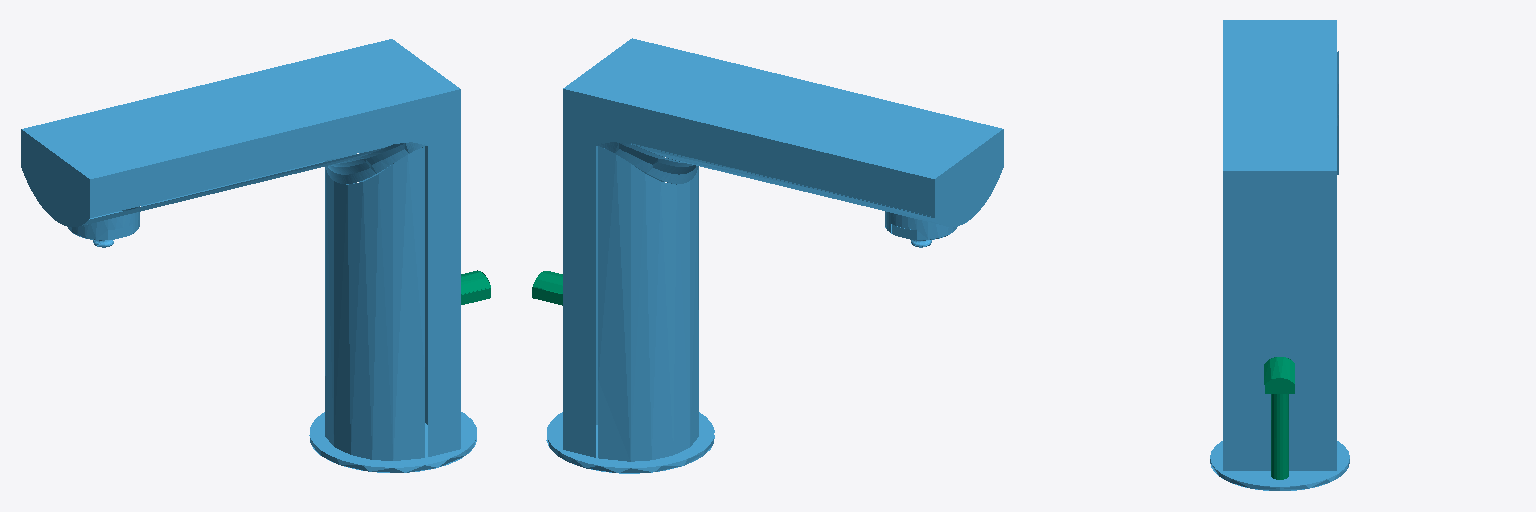
robot.urdf — partnet_13cdb5df9a944fcbb7a867e9b35a1295:
<?xml version="1.0" ?>
<robot name="partnet_13cdb5df9a944fcbb7a867e9b35a1295">
	<link name="base"/>
	<link name="link_0">
		<visual name="surface_base-6">
			<origin xyz="0 0 0"/>
			<geometry>
				<mesh filename="textured_objs/original-5.obj"/>
			</geometry>
		</visual>
		<visual name="surface_base-6">
			<origin xyz="0 0 0"/>
			<geometry>
				<mesh filename="textured_objs/original-33.obj"/>
			</geometry>
		</visual>
		<visual name="surface_base-6">
			<origin xyz="0 0 0"/>
			<geometry>
				<mesh filename="textured_objs/original-1.obj"/>
			</geometry>
		</visual>
		<visual name="surface_base-6">
			<origin xyz="0 0 0"/>
			<geometry>
				<mesh filename="textured_objs/original-34.obj"/>
			</geometry>
		</visual>
		<visual name="vertical_support-8">
			<origin xyz="0 0 0"/>
			<geometry>
				<mesh filename="textured_objs/new-0.obj"/>
			</geometry>
		</visual>
		<visual name="tube-4">
			<origin xyz="0 0 0"/>
			<geometry>
				<mesh filename="textured_objs/new-2.obj"/>
			</geometry>
		</visual>
		<visual name="mouth-5">
			<origin xyz="0 0 0"/>
			<geometry>
				<mesh filename="textured_objs/original-8.obj"/>
			</geometry>
		</visual>
		<visual name="mouth-5">
			<origin xyz="0 0 0"/>
			<geometry>
				<mesh filename="textured_objs/original-38.obj"/>
			</geometry>
		</visual>
		<visual name="mouth-5">
			<origin xyz="0 0 0"/>
			<geometry>
				<mesh filename="textured_objs/original-7.obj"/>
			</geometry>
		</visual>
		<visual name="mouth-5">
			<origin xyz="0 0 0"/>
			<geometry>
				<mesh filename="textured_objs/original-36.obj"/>
			</geometry>
		</visual>
		<visual name="mouth-5">
			<origin xyz="0 0 0"/>
			<geometry>
				<mesh filename="textured_objs/original-25.obj"/>
			</geometry>
		</visual>
		<visual name="mouth-5">
			<origin xyz="0 0 0"/>
			<geometry>
				<mesh filename="textured_objs/original-9.obj"/>
			</geometry>
		</visual>
		<visual name="mouth-5">
			<origin xyz="0 0 0"/>
			<geometry>
				<mesh filename="textured_objs/original-23.obj"/>
			</geometry>
		</visual>
		<visual name="mouth-5">
			<origin xyz="0 0 0"/>
			<geometry>
				<mesh filename="textured_objs/original-22.obj"/>
			</geometry>
		</visual>
		<visual name="mouth-5">
			<origin xyz="0 0 0"/>
			<geometry>
				<mesh filename="textured_objs/original-26.obj"/>
			</geometry>
		</visual>
		<visual name="mouth-5">
			<origin xyz="0 0 0"/>
			<geometry>
				<mesh filename="textured_objs/original-20.obj"/>
			</geometry>
		</visual>
		<visual name="mouth-5">
			<origin xyz="0 0 0"/>
			<geometry>
				<mesh filename="textured_objs/original-16.obj"/>
			</geometry>
		</visual>
		<visual name="mouth-5">
			<origin xyz="0 0 0"/>
			<geometry>
				<mesh filename="textured_objs/original-21.obj"/>
			</geometry>
		</visual>
		<visual name="mouth-5">
			<origin xyz="0 0 0"/>
			<geometry>
				<mesh filename="textured_objs/original-10.obj"/>
			</geometry>
		</visual>
		<visual name="mouth-5">
			<origin xyz="0 0 0"/>
			<geometry>
				<mesh filename="textured_objs/original-11.obj"/>
			</geometry>
		</visual>
		<visual name="mouth-5">
			<origin xyz="0 0 0"/>
			<geometry>
				<mesh filename="textured_objs/original-15.obj"/>
			</geometry>
		</visual>
		<visual name="mouth-5">
			<origin xyz="0 0 0"/>
			<geometry>
				<mesh filename="textured_objs/original-19.obj"/>
			</geometry>
		</visual>
		<visual name="mouth-5">
			<origin xyz="0 0 0"/>
			<geometry>
				<mesh filename="textured_objs/original-13.obj"/>
			</geometry>
		</visual>
		<visual name="mouth-5">
			<origin xyz="0 0 0"/>
			<geometry>
				<mesh filename="textured_objs/original-12.obj"/>
			</geometry>
		</visual>
		<visual name="mouth-5">
			<origin xyz="0 0 0"/>
			<geometry>
				<mesh filename="textured_objs/original-18.obj"/>
			</geometry>
		</visual>
		<visual name="mouth-5">
			<origin xyz="0 0 0"/>
			<geometry>
				<mesh filename="textured_objs/original-35.obj"/>
			</geometry>
		</visual>
		<collision>
			<origin xyz="0 0 0"/>
			<geometry>
				<mesh filename="textured_objs/original-5.obj"/>
			</geometry>
		</collision>
		<collision>
			<origin xyz="0 0 0"/>
			<geometry>
				<mesh filename="textured_objs/original-33.obj"/>
			</geometry>
		</collision>
		<collision>
			<origin xyz="0 0 0"/>
			<geometry>
				<mesh filename="textured_objs/original-1.obj"/>
			</geometry>
		</collision>
		<collision>
			<origin xyz="0 0 0"/>
			<geometry>
				<mesh filename="textured_objs/original-34.obj"/>
			</geometry>
		</collision>
		<collision>
			<origin xyz="0 0 0"/>
			<geometry>
				<mesh filename="textured_objs/new-0.obj"/>
			</geometry>
		</collision>
		<collision>
			<origin xyz="0 0 0"/>
			<geometry>
				<mesh filename="textured_objs/new-2.obj"/>
			</geometry>
		</collision>
		<collision>
			<origin xyz="0 0 0"/>
			<geometry>
				<mesh filename="textured_objs/original-8.obj"/>
			</geometry>
		</collision>
		<collision>
			<origin xyz="0 0 0"/>
			<geometry>
				<mesh filename="textured_objs/original-38.obj"/>
			</geometry>
		</collision>
		<collision>
			<origin xyz="0 0 0"/>
			<geometry>
				<mesh filename="textured_objs/original-7.obj"/>
			</geometry>
		</collision>
		<collision>
			<origin xyz="0 0 0"/>
			<geometry>
				<mesh filename="textured_objs/original-36.obj"/>
			</geometry>
		</collision>
		<collision>
			<origin xyz="0 0 0"/>
			<geometry>
				<mesh filename="textured_objs/original-25.obj"/>
			</geometry>
		</collision>
		<collision>
			<origin xyz="0 0 0"/>
			<geometry>
				<mesh filename="textured_objs/original-9.obj"/>
			</geometry>
		</collision>
		<collision>
			<origin xyz="0 0 0"/>
			<geometry>
				<mesh filename="textured_objs/original-23.obj"/>
			</geometry>
		</collision>
		<collision>
			<origin xyz="0 0 0"/>
			<geometry>
				<mesh filename="textured_objs/original-22.obj"/>
			</geometry>
		</collision>
		<collision>
			<origin xyz="0 0 0"/>
			<geometry>
				<mesh filename="textured_objs/original-26.obj"/>
			</geometry>
		</collision>
		<collision>
			<origin xyz="0 0 0"/>
			<geometry>
				<mesh filename="textured_objs/original-20.obj"/>
			</geometry>
		</collision>
		<collision>
			<origin xyz="0 0 0"/>
			<geometry>
				<mesh filename="textured_objs/original-16.obj"/>
			</geometry>
		</collision>
		<collision>
			<origin xyz="0 0 0"/>
			<geometry>
				<mesh filename="textured_objs/original-21.obj"/>
			</geometry>
		</collision>
		<collision>
			<origin xyz="0 0 0"/>
			<geometry>
				<mesh filename="textured_objs/original-10.obj"/>
			</geometry>
		</collision>
		<collision>
			<origin xyz="0 0 0"/>
			<geometry>
				<mesh filename="textured_objs/original-11.obj"/>
			</geometry>
		</collision>
		<collision>
			<origin xyz="0 0 0"/>
			<geometry>
				<mesh filename="textured_objs/original-15.obj"/>
			</geometry>
		</collision>
		<collision>
			<origin xyz="0 0 0"/>
			<geometry>
				<mesh filename="textured_objs/original-19.obj"/>
			</geometry>
		</collision>
		<collision>
			<origin xyz="0 0 0"/>
			<geometry>
				<mesh filename="textured_objs/original-13.obj"/>
			</geometry>
		</collision>
		<collision>
			<origin xyz="0 0 0"/>
			<geometry>
				<mesh filename="textured_objs/original-12.obj"/>
			</geometry>
		</collision>
		<collision>
			<origin xyz="0 0 0"/>
			<geometry>
				<mesh filename="textured_objs/original-18.obj"/>
			</geometry>
		</collision>
		<collision>
			<origin xyz="0 0 0"/>
			<geometry>
				<mesh filename="textured_objs/original-35.obj"/>
			</geometry>
		</collision>
	</link>
	<joint name="joint_0" type="fixed">
		<origin rpy="1.570796326794897 0 -1.570796326794897" xyz="0 0 0"/>
		<child link="link_0"/>
		<parent link="base"/>
	</joint>
	<link name="link_1">
		<visual name="vertical_support-7">
			<origin xyz="0 0 0"/>
			<geometry>
				<mesh filename="textured_objs/original-4.obj"/>
			</geometry>
		</visual>
		<visual name="vertical_support-7">
			<origin xyz="0 0 0"/>
			<geometry>
				<mesh filename="textured_objs/original-2.obj"/>
			</geometry>
		</visual>
		<visual name="horizontal_support-9">
			<origin xyz="0 0 0"/>
			<geometry>
				<mesh filename="textured_objs/original-3.obj"/>
			</geometry>
		</visual>
		<visual name="horizontal_support-9">
			<origin xyz="0 0 0"/>
			<geometry>
				<mesh filename="textured_objs/original-31.obj"/>
			</geometry>
		</visual>
		<visual name="horizontal_support-9">
			<origin xyz="0 0 0"/>
			<geometry>
				<mesh filename="textured_objs/original-32.obj"/>
			</geometry>
		</visual>
		<collision>
			<origin xyz="0 0 0"/>
			<geometry>
				<mesh filename="textured_objs/original-4.obj"/>
			</geometry>
		</collision>
		<collision>
			<origin xyz="0 0 0"/>
			<geometry>
				<mesh filename="textured_objs/original-2.obj"/>
			</geometry>
		</collision>
		<collision>
			<origin xyz="0 0 0"/>
			<geometry>
				<mesh filename="textured_objs/original-3.obj"/>
			</geometry>
		</collision>
		<collision>
			<origin xyz="0 0 0"/>
			<geometry>
				<mesh filename="textured_objs/original-31.obj"/>
			</geometry>
		</collision>
		<collision>
			<origin xyz="0 0 0"/>
			<geometry>
				<mesh filename="textured_objs/original-32.obj"/>
			</geometry>
		</collision>
	</link>
	<joint name="joint_1" type="prismatic">
		<origin xyz="0 0 0"/>
		<axis xyz="0 -1 0"/>
		<child link="link_1"/>
		<parent link="link_0"/>
		<limit lower="0" upper="0.3720000000000001"/>
	</joint>
</robot>

--- Render facts (derived) ---
Views: 3 orthographic renders of the robot side by side, from view 1: azimuth 30°, elevation 25°; view 2: azimuth 150°, elevation 25°; view 3: azimuth 270°, elevation 25°.
Model partnet_13cdb5df9a944fcbb7a867e9b35a1295 with 3 links and 2 joints (1 prismatic, 1 fixed), rooted at base, posed all joints at 0.
Links seen in each view (by area): view 1: link_0, link_1; view 2: link_0, link_1; view 3: link_0, link_1.
Link boxes in pixels (x1,y1,x2,y2): link_0: (21, 39, 476, 472); link_1: (461, 270, 490, 304); link_0: (546, 38, 1003, 473); link_1: (532, 271, 562, 305); link_0: (1210, 20, 1349, 490); link_1: (1264, 357, 1294, 479).
Bounding box of the posed robot: 1.44 × 0.4935 × 1.18 m (x, y, z).
31 mesh visuals loaded from 31 distinct referenced files (31 OBJ).
